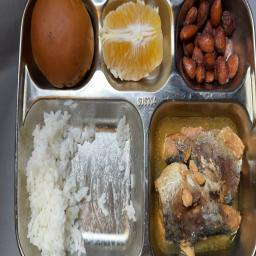100_bread: (27, 0, 96, 87)
100_fish: (150, 103, 250, 256)
100_nuts: (180, 2, 242, 85)
100_orange: (97, 1, 169, 87)
25_rice: (20, 98, 139, 255)
